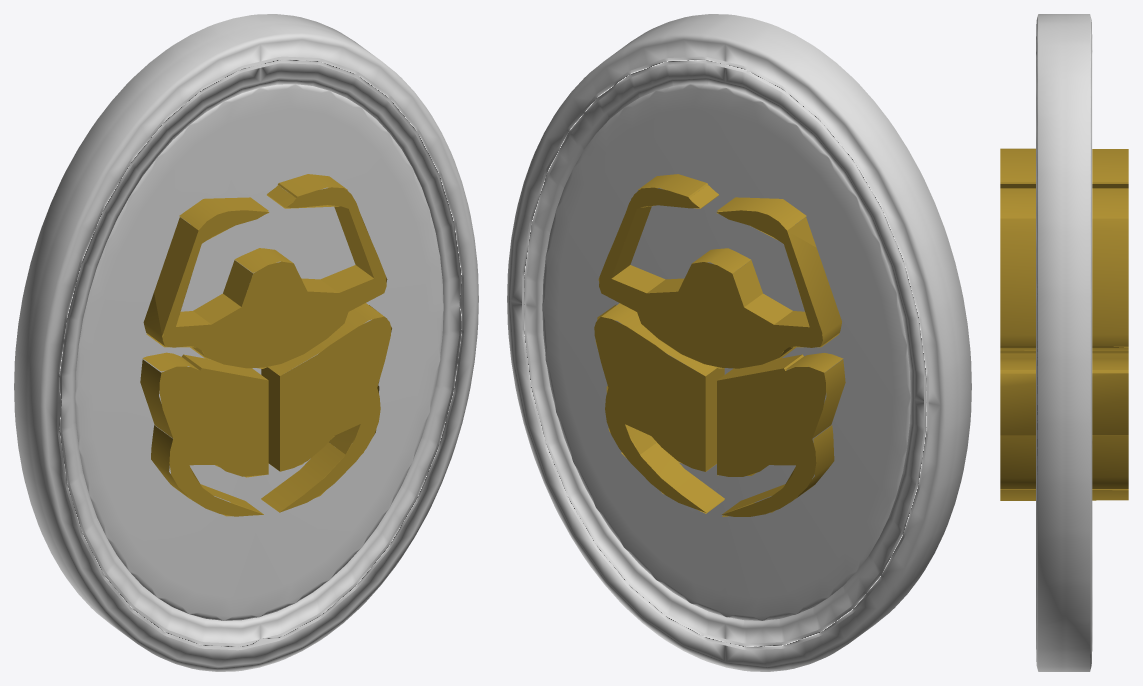
File: Escarabajo_key.fbx
3 views of the same model, side by side, from view 1: azimuth 30°, elevation 25°; view 2: azimuth 150°, elevation 25°; view 3: azimuth 270°, elevation 25° (orthographic).
Visible parts, largest first — view 1: Cylinder, Escarabajo; view 2: Cylinder, Escarabajo; view 3: Cylinder, Escarabajo.
Boxes of the visible parts, x1,y1,x2,y2 form: Cylinder: (14,14,478,671); Escarabajo: (140,174,391,516); Cylinder: (507,14,971,671); Escarabajo: (594,174,845,516); Cylinder: (1036,14,1092,671); Escarabajo: (1000,148,1128,500).
Size of the model in its own units: 6.23 by 8.55 by 1.6.
